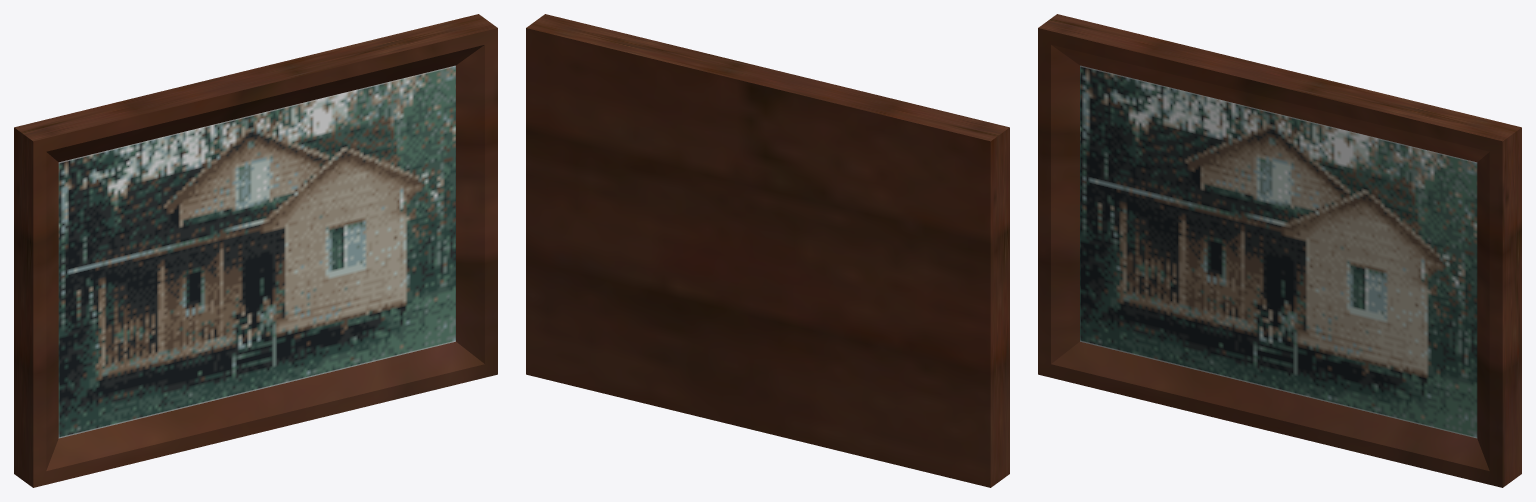
File: photo-2.fbx
3 renders of one model, left to right at view 1: azimuth 30°, elevation 25°; view 2: azimuth 150°, elevation 25°; view 3: azimuth 330°, elevation 25°, orthographic.
Parts seen in each view (by area): view 1: Picture; view 2: Picture; view 3: Picture.
Part boxes in pixels (bbox=[...]): Picture: bbox=[14, 14, 497, 487]; Picture: bbox=[526, 14, 1009, 487]; Picture: bbox=[1038, 14, 1521, 487].
Bounding box in the file's own units: 140 × 100 × 10.
